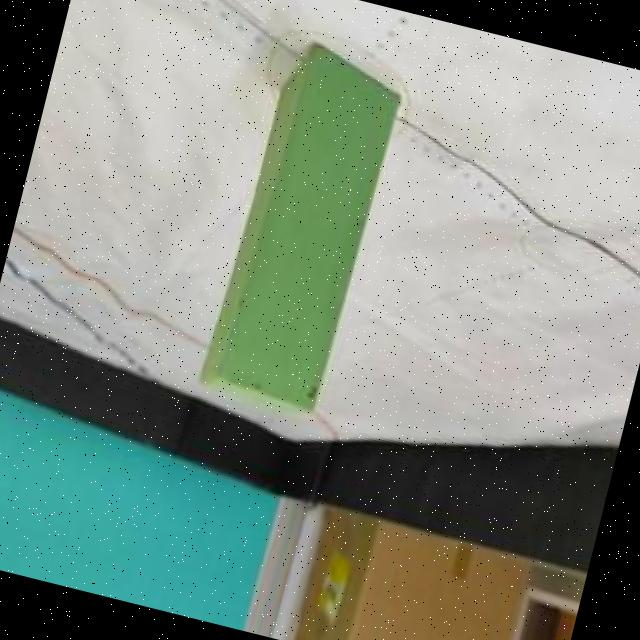greenbox: (192, 30, 412, 428)
